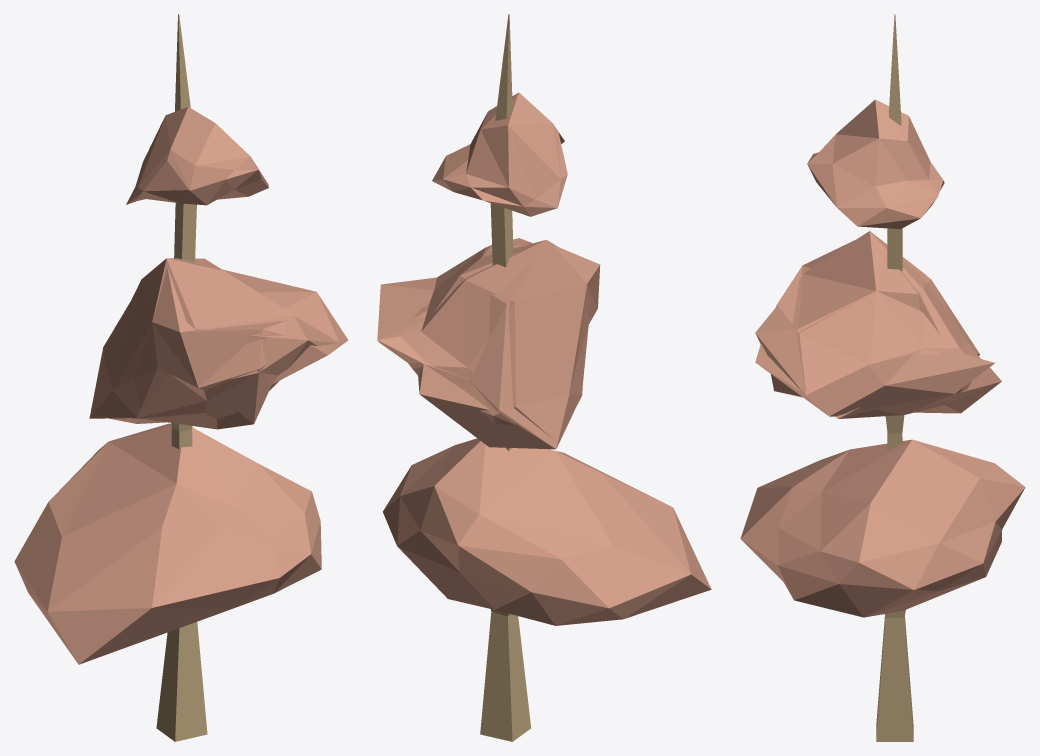
File: Tree_08.fbx
3 views of the same model, side by side, from view 1: azimuth 30°, elevation 25°; view 2: azimuth 150°, elevation 25°; view 3: azimuth 270°, elevation 25° (orthographic).
Visible parts, largest first — view 1: Tree_8; view 2: Tree_8; view 3: Tree_8.
Part boxes in pixels (<box>): Tree_8: <box>14,14,348,741</box>; Tree_8: <box>377,14,711,741</box>; Tree_8: <box>740,14,1025,741</box>.
Bounding box in the file's own units: 1948 × 4553 × 1638.
